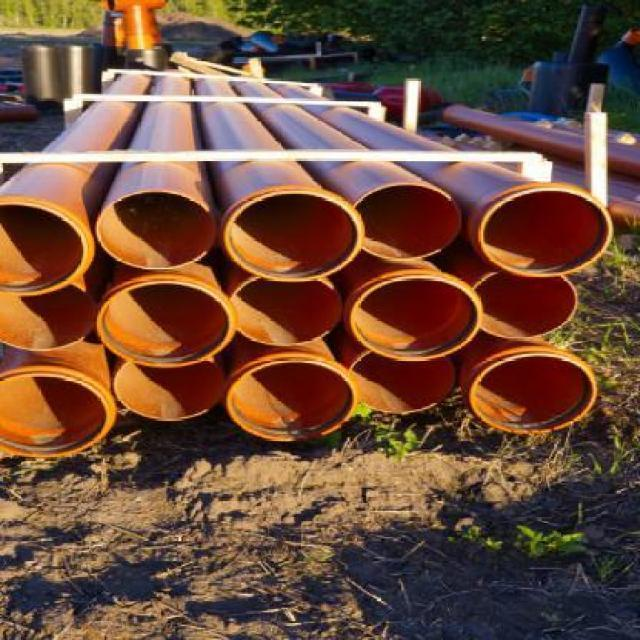pipe: (226, 190, 363, 283), (476, 185, 612, 278), (95, 280, 234, 369), (350, 275, 483, 361), (227, 359, 360, 441), (470, 352, 595, 435), (0, 371, 112, 459), (96, 192, 216, 269), (0, 199, 89, 296), (353, 184, 462, 261), (230, 280, 341, 346), (114, 360, 227, 422), (474, 271, 576, 339), (350, 351, 455, 414), (0, 286, 97, 352)
